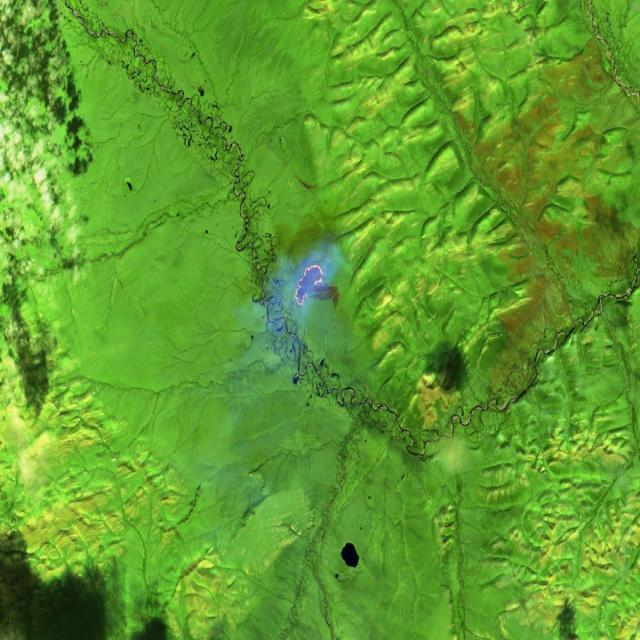fire: (290, 258, 325, 306)
